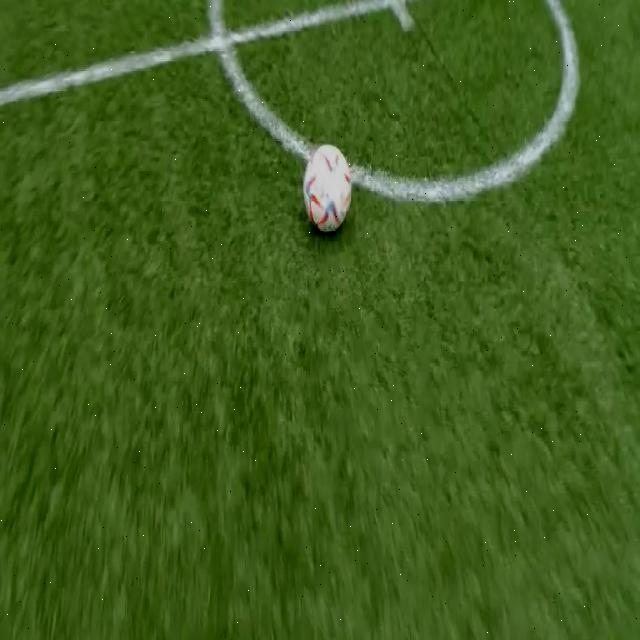ball: (303, 144, 352, 232)
